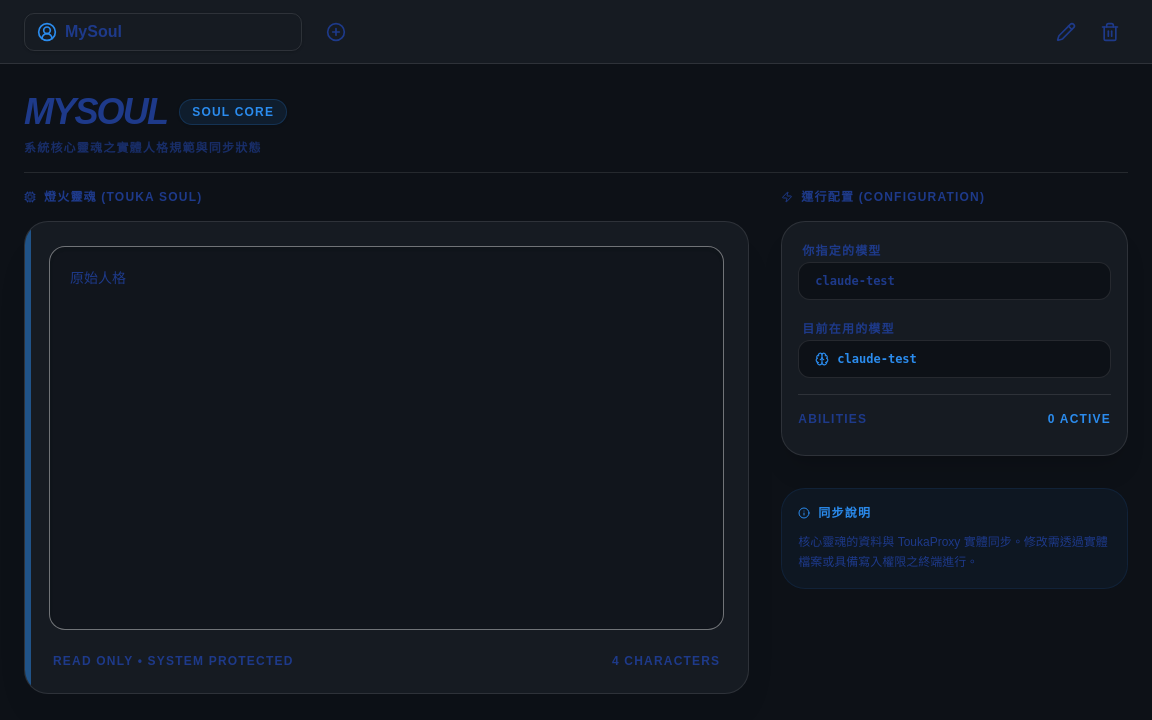
Test: SoulStudio — 保存結果必須可見 › HTTP 403 錯誤留在框內，不能誤認為密碼錯誤
expect the heading "MySoul" is shown: met, box [24,92,167,132]
Click the button titled "編輯靈魂" at (1066, 32), box [1048,14,1084,50]
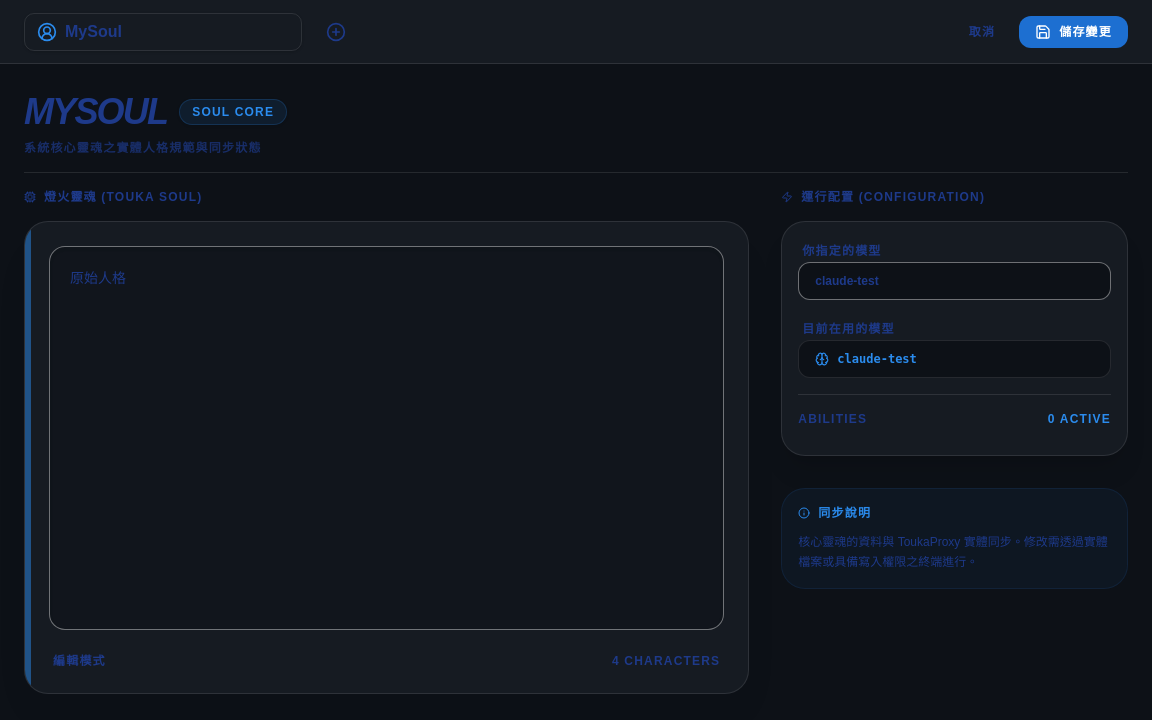
Replace the text in the text box showing "原始人格" with "修訂後人格" at (387, 438), box [49,246,724,630]
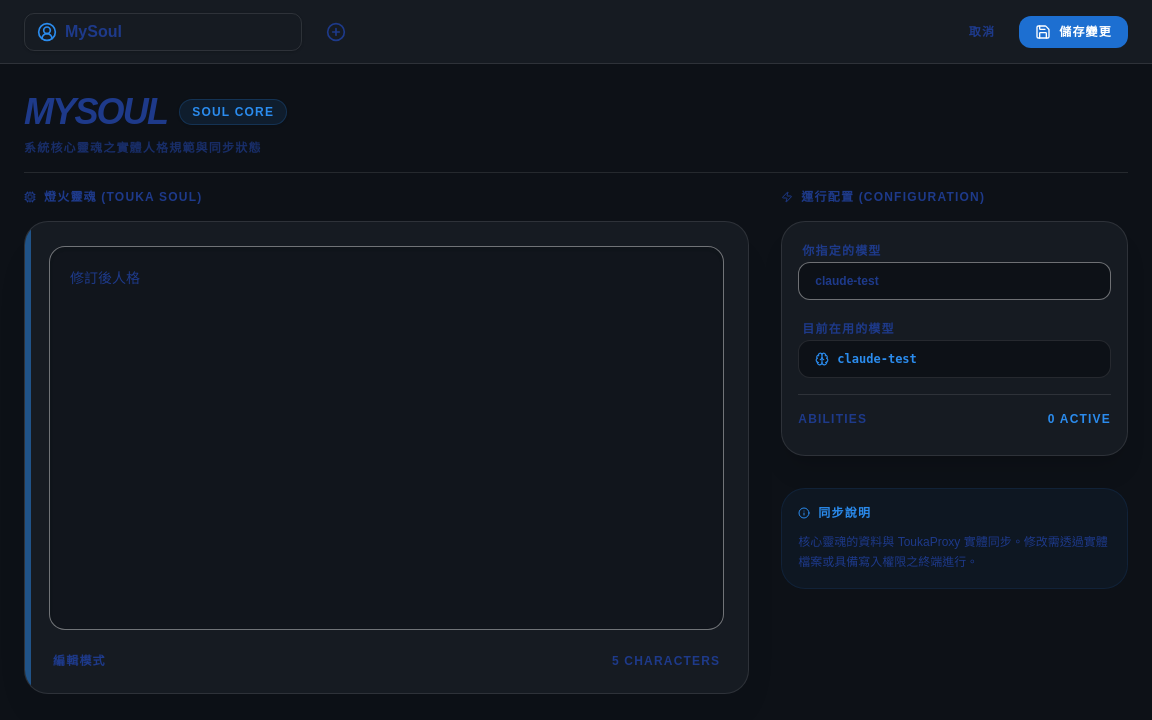
Click the button "儲存變更" at (1074, 32), box [1019,16,1128,48]
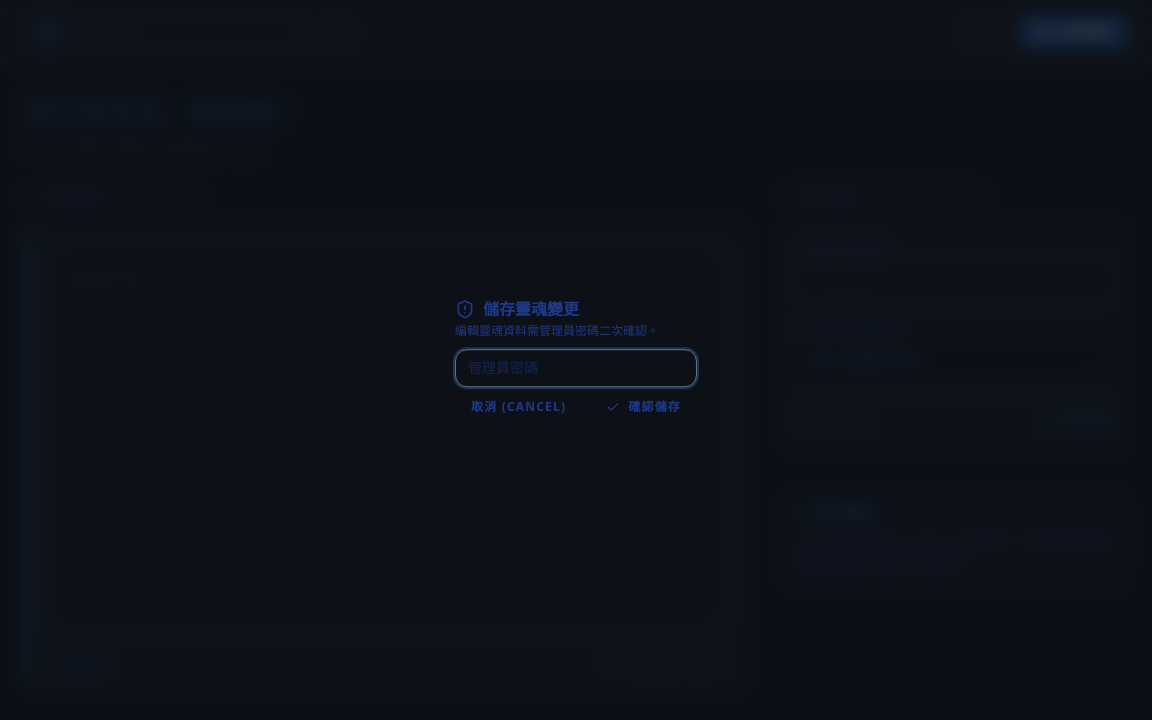
Type "SyntheticPassword" into the password field with placeholder "管理員密碼" at (576, 368), box [455,349,697,387]
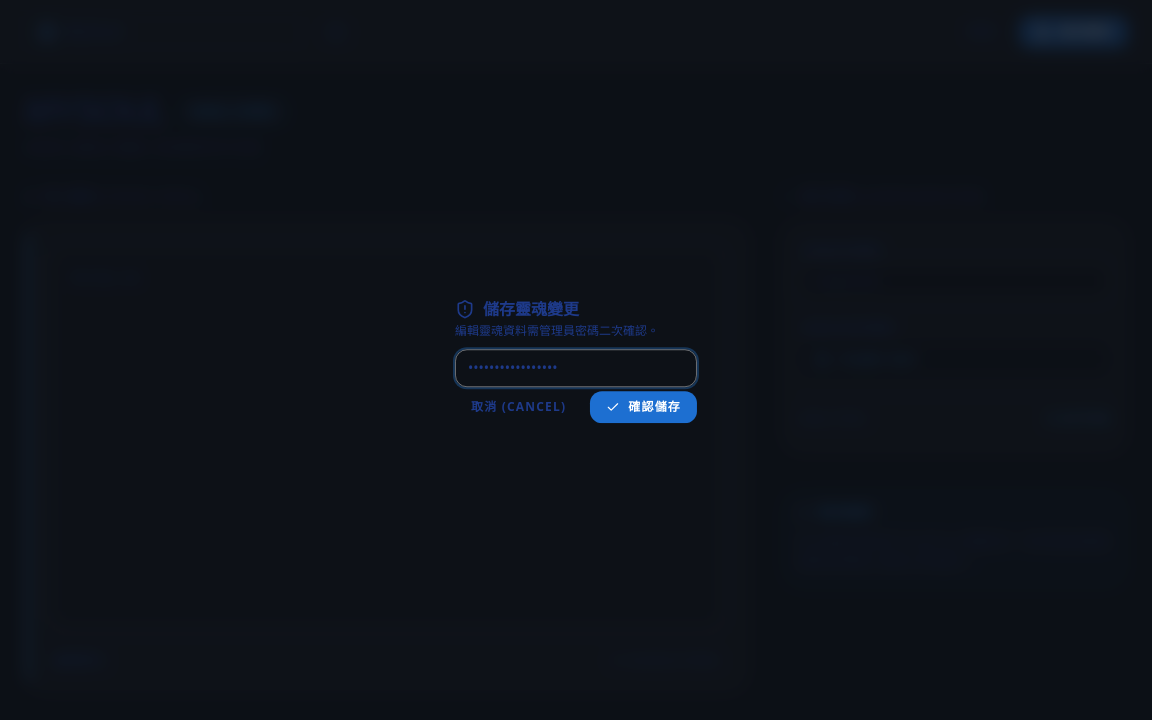
Click the button "確認儲存" at (644, 407), box [590,391,697,423]
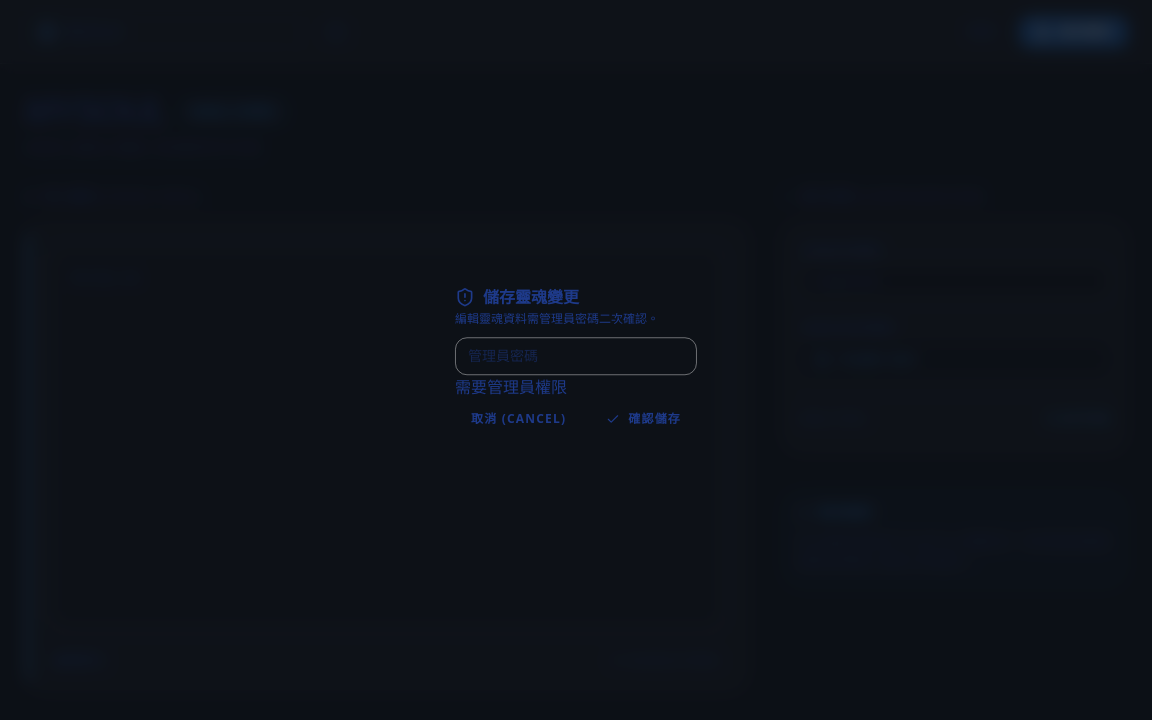
expect the dialog is shown: met, box [455,285,697,435]
expect the message "需要管理員權限" is shown: met, box [455,376,567,398]
expect the password field with placeholder "管理員密碼" is empty: met, box [455,337,697,375]
